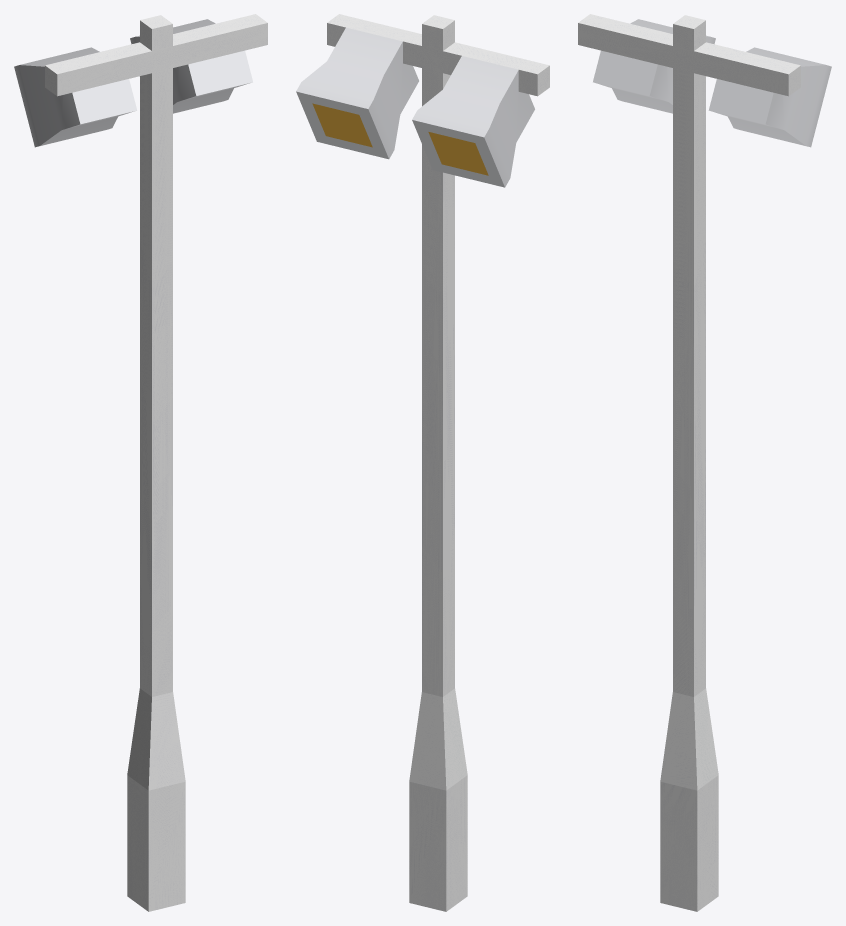
File: lightPost_exclusive.obj
The picture shows the model from 3 angles, left to right: view 1: azimuth 30°, elevation 25°; view 2: azimuth 150°, elevation 25°; view 3: azimuth 330°, elevation 25°; orthographic projection.
Parts seen in each view (by area): view 1: lightPost_exclusive; view 2: lightPost_exclusive; view 3: lightPost_exclusive.
Boxes of the visible parts, x1,y1,x2,y2 form: lightPost_exclusive: [14, 14, 267, 911]; lightPost_exclusive: [296, 14, 549, 911]; lightPost_exclusive: [578, 14, 831, 911].
Bounding box in the file's own units: 2 × 7.96 × 0.9706.
